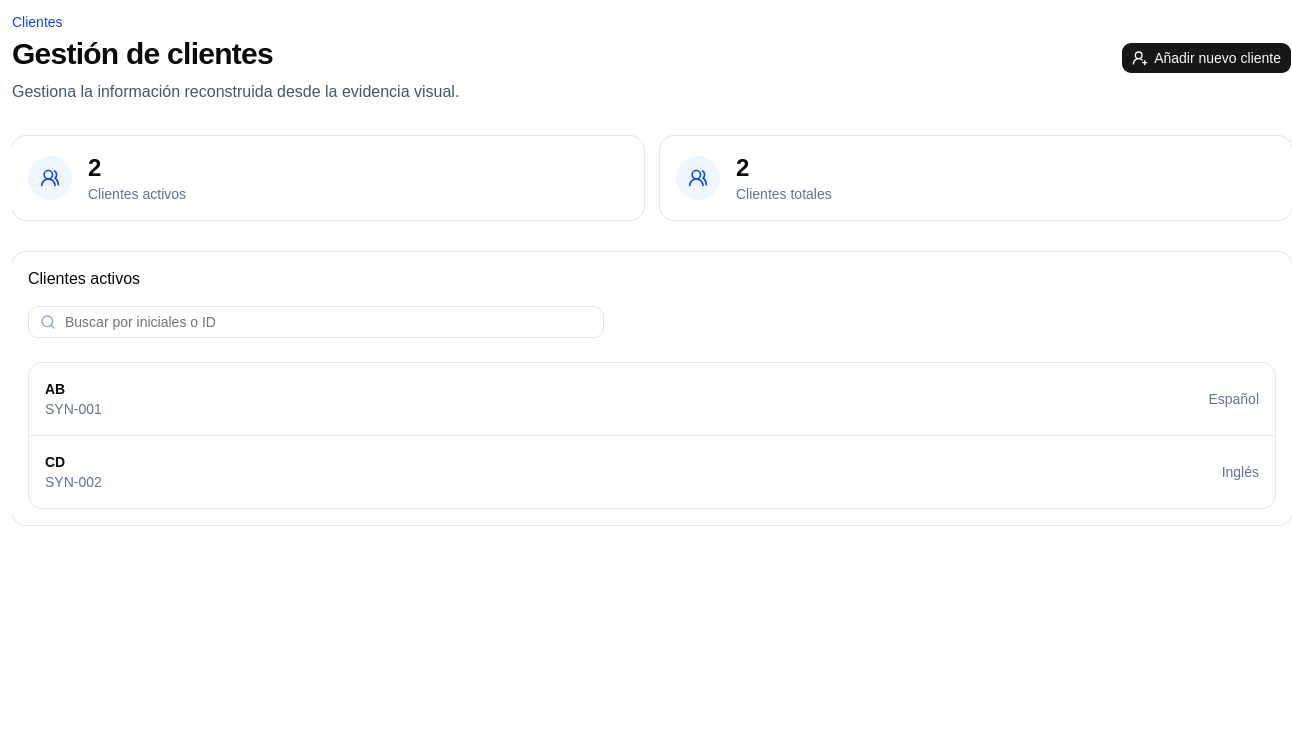
ClientsPage › lista y filtra localmente por iniciales o ID
This screenshot has width=1292, height=732.
Expected: the text "SYN-001" is shown, x1=45 y1=399 x2=102 y2=419
Expected: the text "SYN-002" is shown, x1=45 y1=472 x2=102 y2=492
Type "cd" into the field named "Buscar cliente". click: (316, 322)
box: x1=28 y1=306 x2=604 y2=338
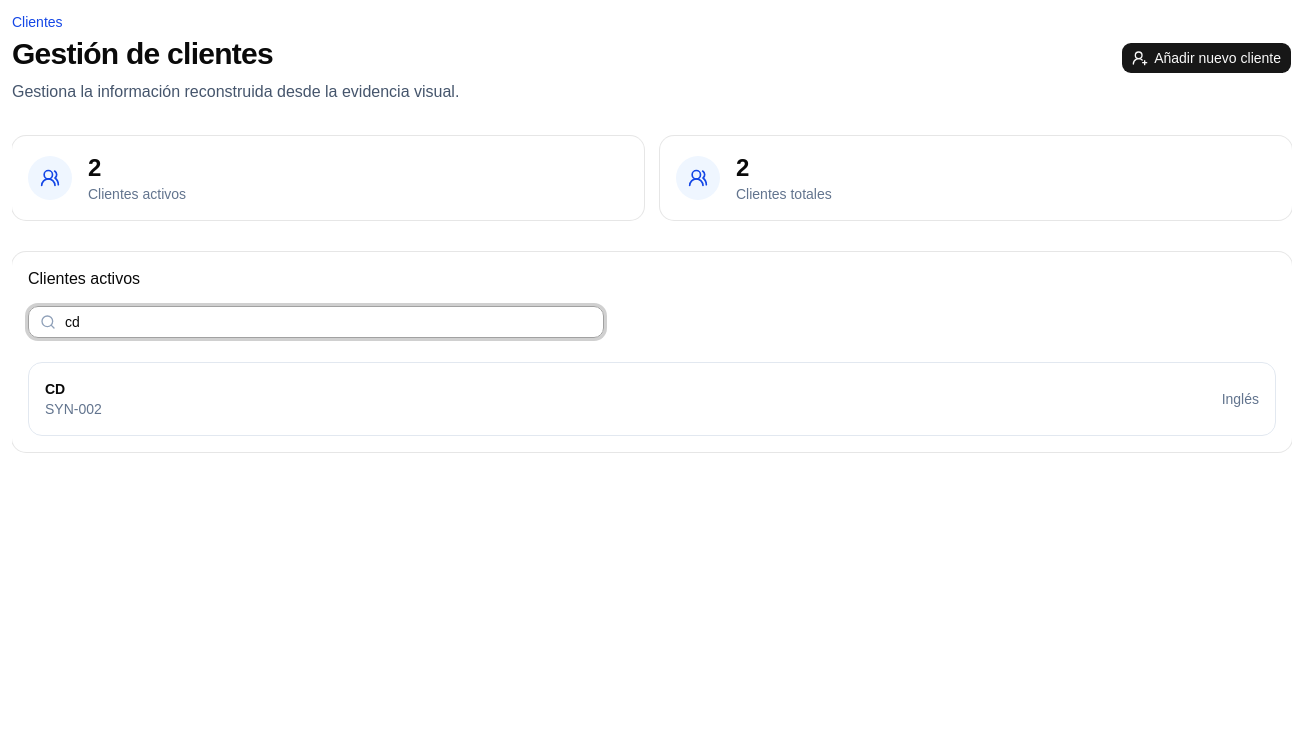
Expected: the text "SYN-002" is shown, x1=45 y1=399 x2=102 y2=419
Expected: the link "SYN-001" is gone
